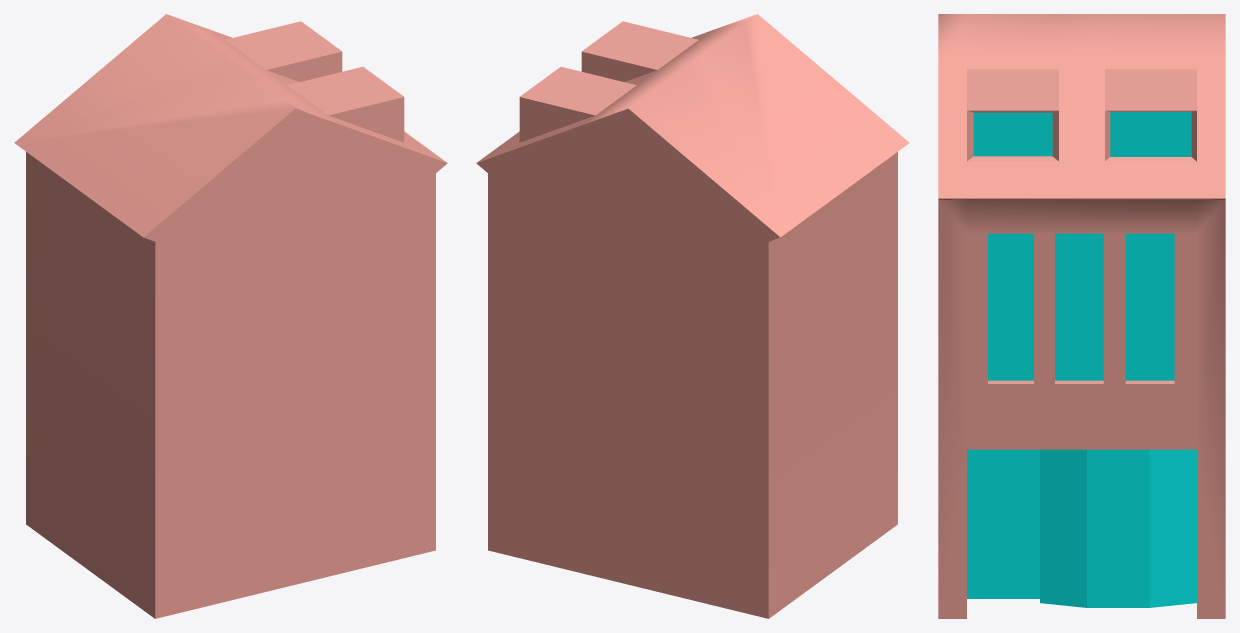
File: Building 2.fbx
3 renders of one model, left to right at view 1: azimuth 30°, elevation 25°; view 2: azimuth 150°, elevation 25°; view 3: azimuth 270°, elevation 25°, orthographic. The views are drawn at different scales.
Visible parts, largest first — view 1: store_building_1; view 2: store_building_1; view 3: store_building_1.
Part boxes in pixels (<box>): store_building_1: <box>14,14,447,618</box>; store_building_1: <box>476,14,909,618</box>; store_building_1: <box>938,14,1225,618</box>.
Size of the model in its own units: 4.11 by 6.14 by 3.02.
